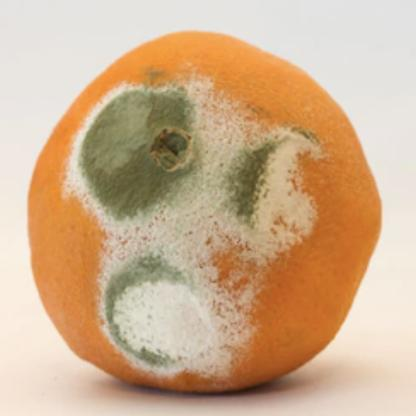rotten: (27, 32, 382, 393)
